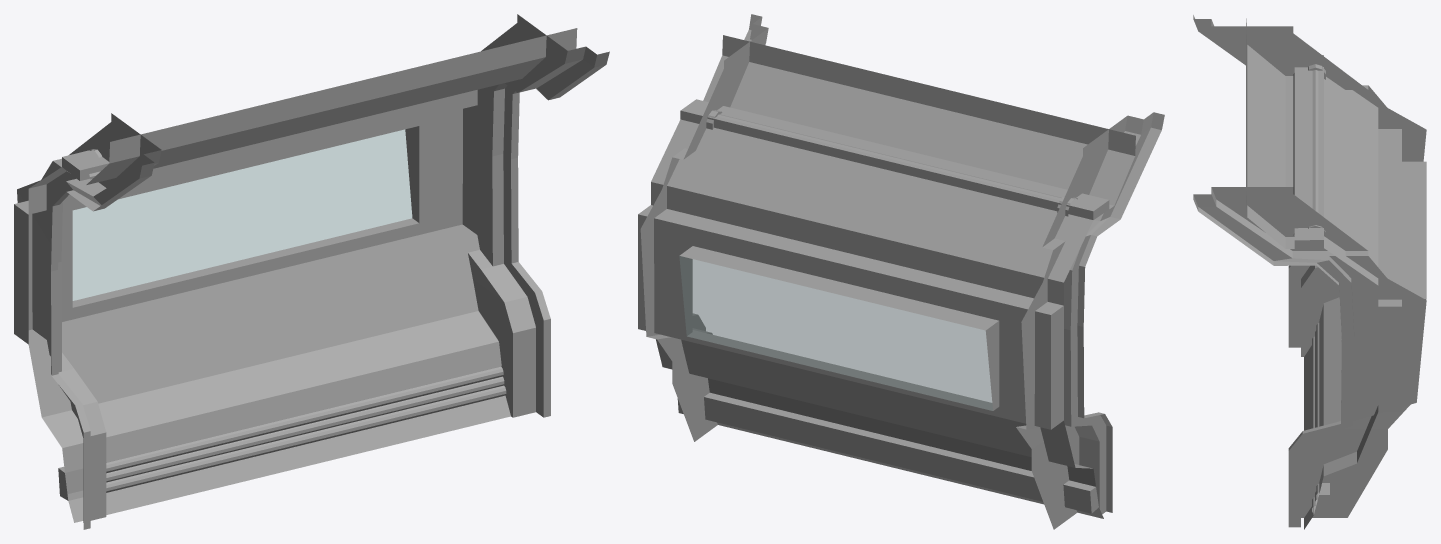
Rendered from Wall_A_Window.fbx.
3 renders of one model, left to right at view 1: azimuth 30°, elevation 25°; view 2: azimuth 150°, elevation 25°; view 3: azimuth 270°, elevation 25°, orthographic. The views are drawn at different scales.
Visible parts, largest first — view 1: pPlane1, pCube12, pCube1, pCylinder5, pCylinder2, pCylinder4; view 2: pPlane1, pCube1, pCube12, pCylinder3; view 3: pPlane1, pCube12, pCube1, pCylinder3, pCylinder2, pCylinder5.
Part boxes in pixels (box(x1,y1,x2,y2)): pPlane1: box(14, 28, 577, 522); pCube12: box(462, 14, 609, 417); pCube1: box(17, 113, 161, 529); pCylinder5: box(106, 385, 506, 492); pCylinder2: box(106, 366, 503, 473); pCylinder4: box(106, 376, 504, 482); pPlane1: box(638, 35, 1135, 518); pCube1: box(1016, 112, 1164, 529); pCube12: box(640, 14, 768, 441); pCylinder3: box(706, 110, 1077, 216); pPlane1: box(1246, 18, 1426, 529); pCube12: box(1193, 187, 1426, 527); pCube1: box(1193, 15, 1426, 356); pCylinder3: box(1308, 64, 1325, 231); pCylinder2: box(1316, 323, 1319, 498); pCylinder5: box(1312, 336, 1317, 512).
Bounding box in the file's own units: 3 × 1.6 × 2.5.
